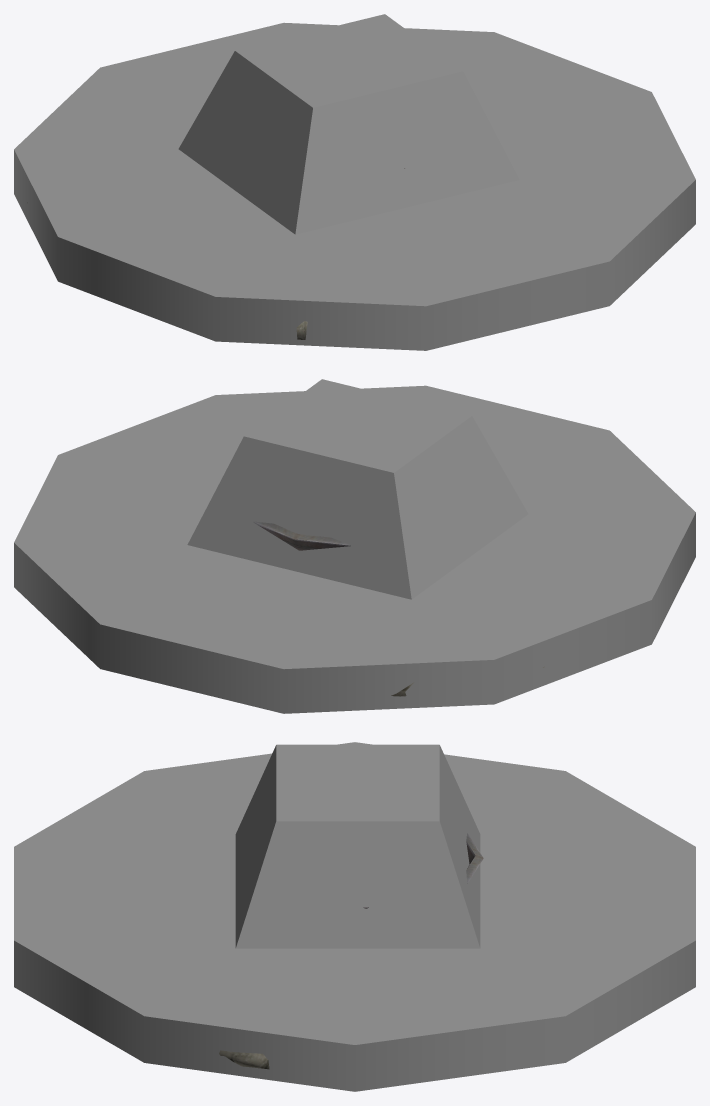
The model's file is Scene_Object_HuoPen_3.FBX.
3 views of the same model, one above another, from view 1: azimuth 30°, elevation 25°; view 2: azimuth 150°, elevation 25°; view 3: azimuth 270°, elevation 25° (orthographic). The views are drawn at different scales.
Visible parts, largest first — view 1: Scene_Build_Obj_HuoPen_3_Xzm; view 2: Scene_Build_Obj_HuoPen_3_Xzm, Scene_Build_Obj_HuoPen_3; view 3: Scene_Build_Obj_HuoPen_3_Xzm, Scene_Build_Obj_HuoPen_3.
Boxes of the visible parts, <box> form: Scene_Build_Obj_HuoPen_3_Xzm: <box>14,14,695,350</box>; Scene_Build_Obj_HuoPen_3_Xzm: <box>14,379,695,713</box>; Scene_Build_Obj_HuoPen_3: <box>253,521,544,696</box>; Scene_Build_Obj_HuoPen_3_Xzm: <box>14,742,695,1091</box>; Scene_Build_Obj_HuoPen_3: <box>219,833,483,1069</box>.
Bounding box in the file's own units: 625 × 151 × 594.
